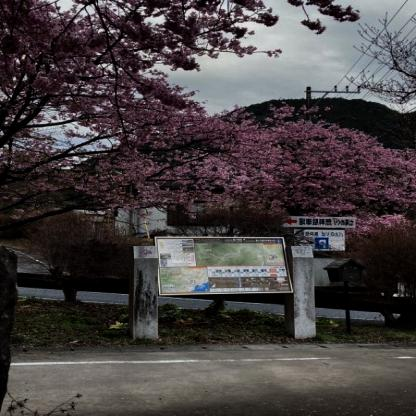KawazuSakura: (0, 100, 416, 236), (0, 0, 295, 137)
